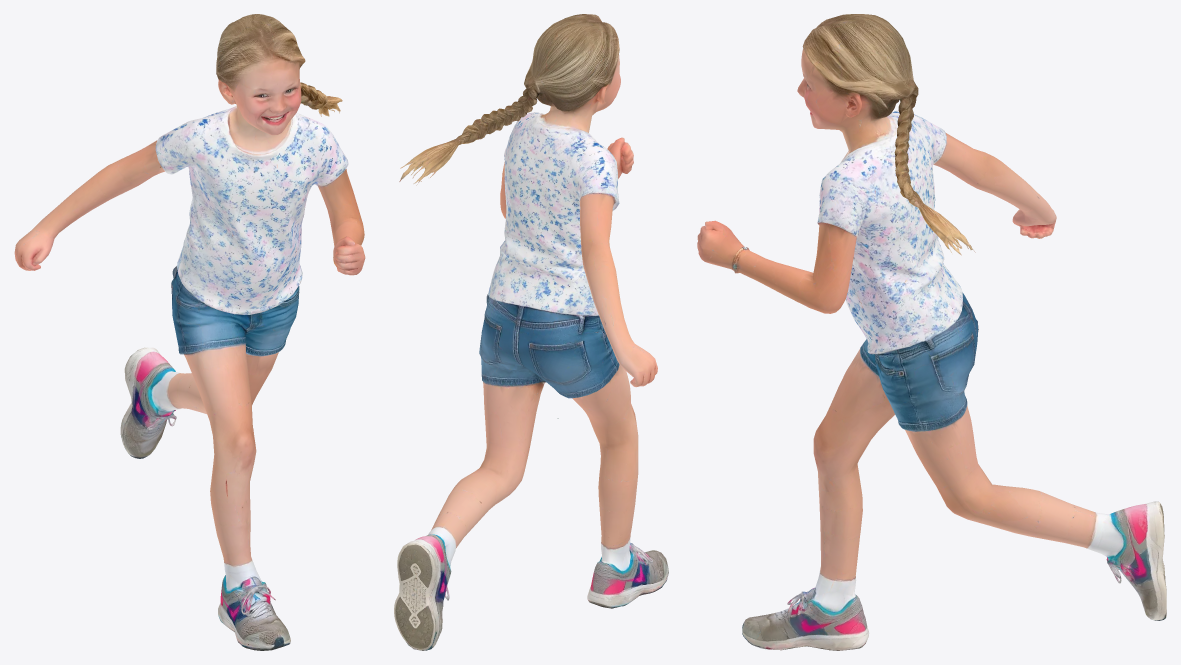
Rendered from happy.glb.
3 views of the same model, side by side, from view 1: azimuth 30°, elevation 25°; view 2: azimuth 150°, elevation 25°; view 3: azimuth 270°, elevation 25° (orthographic). The views are drawn at different scales.
Parts seen in each view (by area): view 1: Object_5; view 2: Object_5; view 3: Object_5.
Part boxes in pixels (bbox=[...]): Object_5: bbox=[14, 14, 365, 650]; Object_5: bbox=[394, 14, 668, 650]; Object_5: bbox=[697, 14, 1166, 650].
Bounding box in the file's own units: 0.9797 × 1.9 × 1.26.
Materials: 1 (1 with a texture image).
